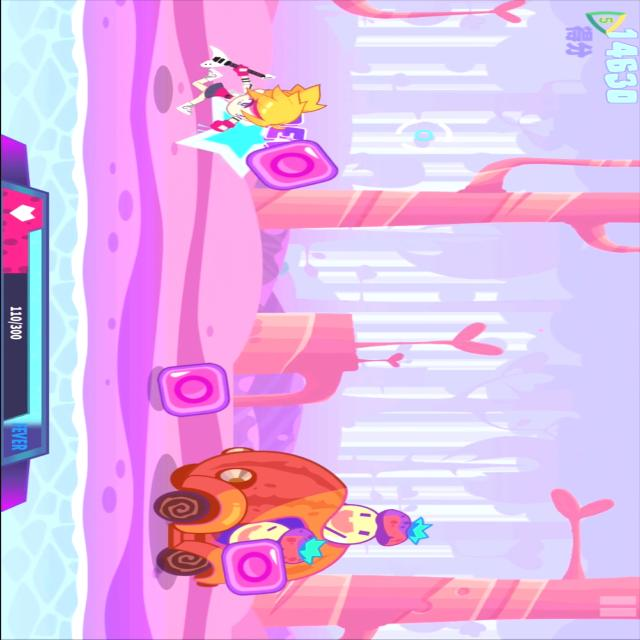kuai: (235, 137, 354, 195), (143, 359, 241, 422), (212, 538, 294, 599)
